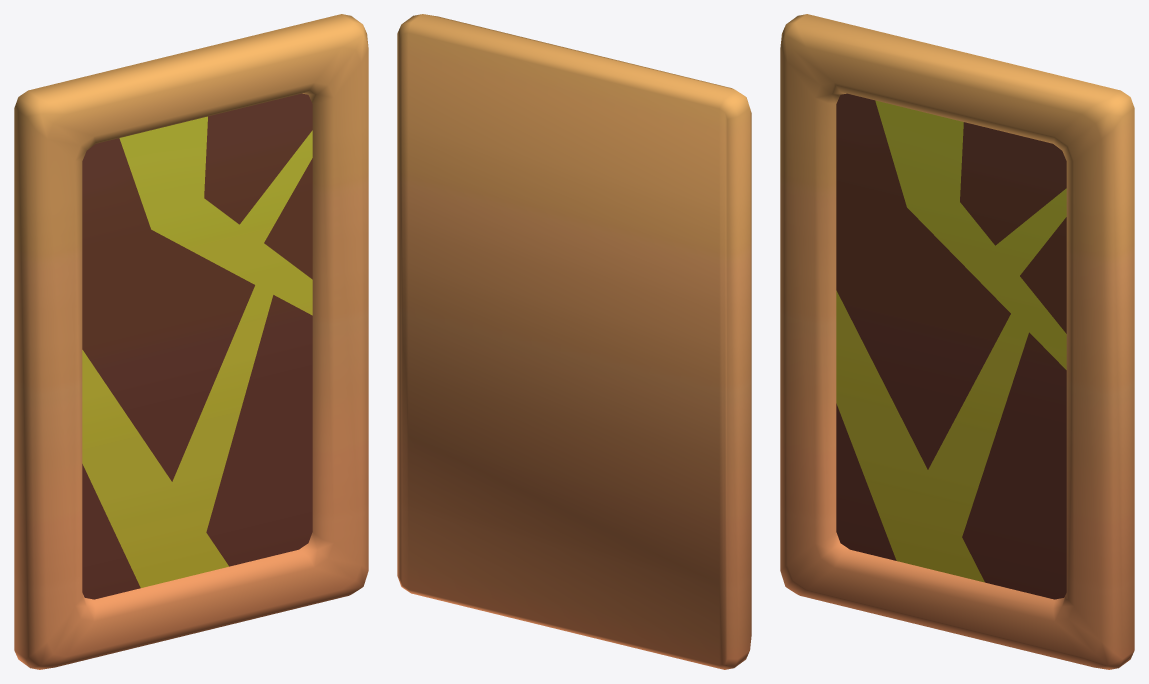
File: Picture_04.glb
The picture shows the model from 3 angles, left to right: view 1: azimuth 30°, elevation 25°; view 2: azimuth 150°, elevation 25°; view 3: azimuth 330°, elevation 25°; orthographic projection.
Visible parts, largest first — view 1: Picture_04; view 2: Picture_04; view 3: Picture_04.
Part boxes in pixels (box(x1,y1,x2,y2)): Picture_04: box(14, 14, 368, 669); Picture_04: box(397, 14, 751, 669); Picture_04: box(780, 14, 1134, 669).
Bounding box in the file's own units: 0.5 × 0.8 × 0.06.
1 material, 1 textured.
